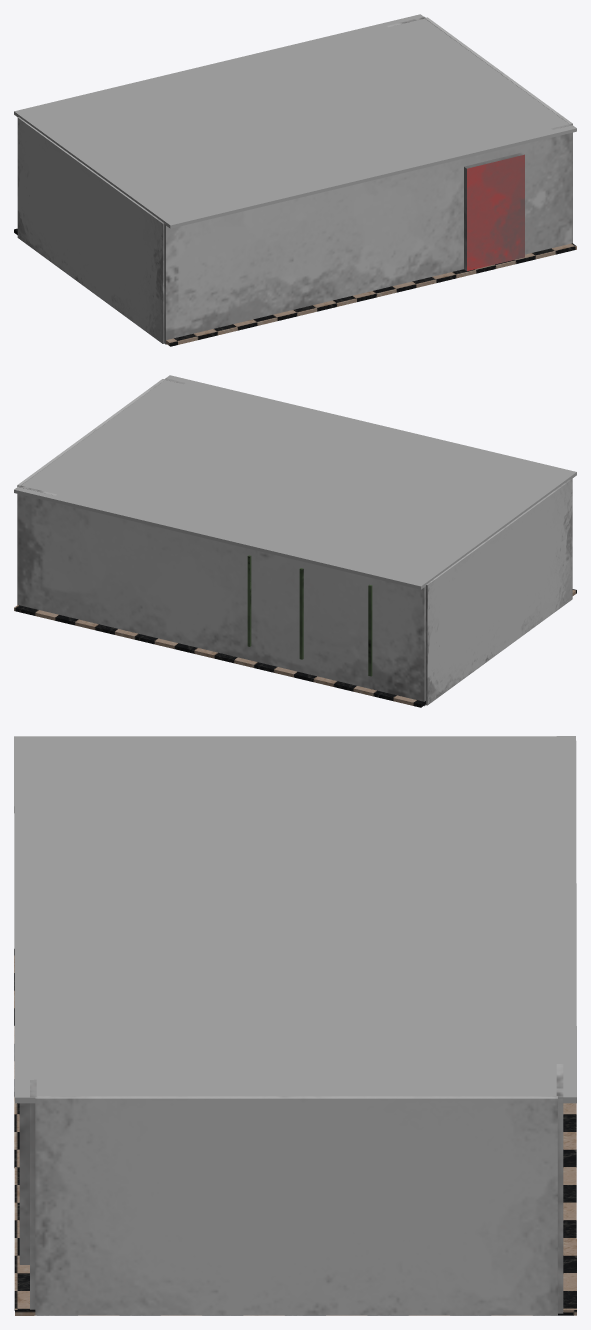
The model's file is Bathroom.fbx.
3 renders of one model, top to bottom at view 1: azimuth 30°, elevation 25°; view 2: azimuth 150°, elevation 25°; view 3: azimuth 270°, elevation 25°, orthographic. The views are drawn at different scales.
Visible parts, largest first — view 1: Bathroom1, pCube9; view 2: Bathroom1, pCube9; view 3: pCube9, Bathroom1.
Boxes of the visible parts, x1=… form: Bathroom1: x1=14, y1=16, x2=576, y2=346; pCube9: x1=14, y1=14, x2=576, y2=228; Bathroom1: x1=14, y1=378, x2=576, y2=707; pCube9: x1=14, y1=375, x2=576, y2=589; pCube9: x1=14, y1=736, x2=576, y2=1103; Bathroom1: x1=14, y1=949, x2=576, y2=1315.
Size of the model in its own units: 20.73 by 6.74 by 13.69.
